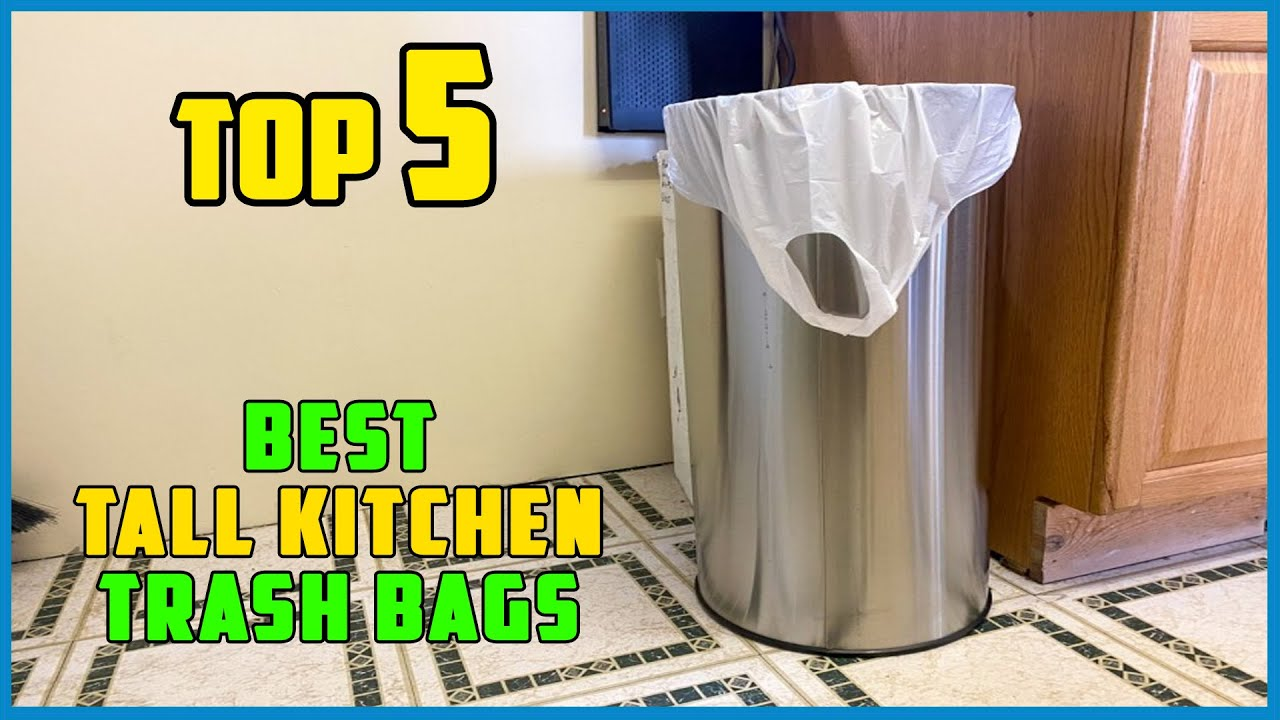bin_empty: (659, 82, 1020, 654)
